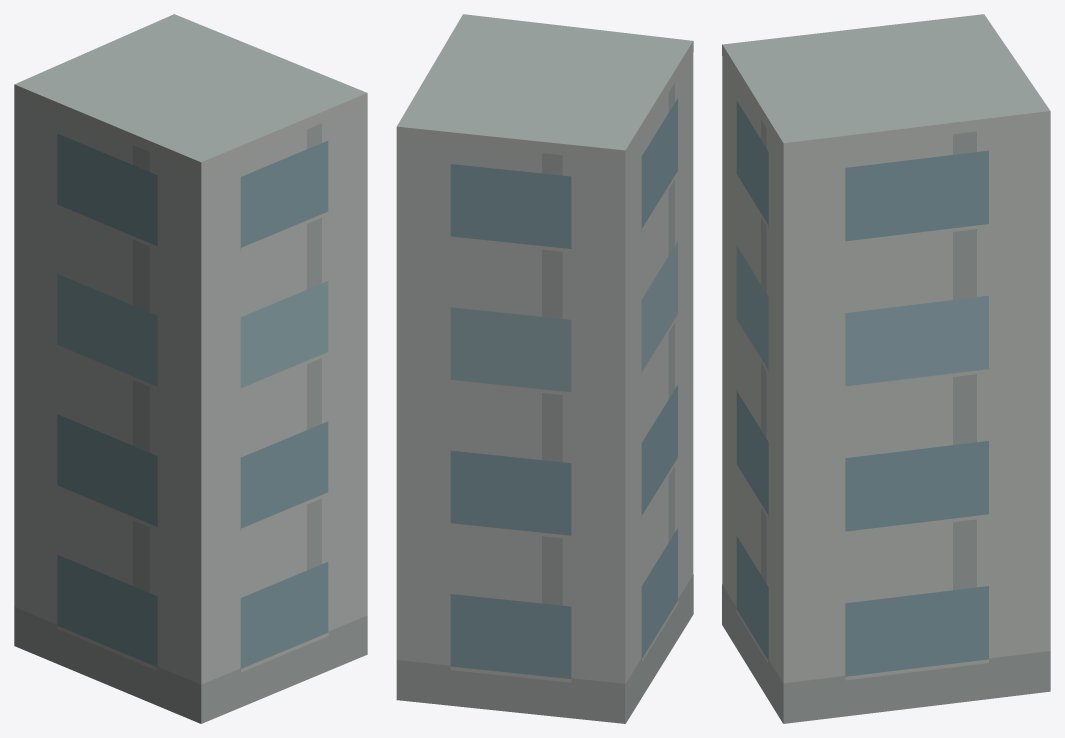
The model's file is survey-upis-32466396.glb.
The picture shows the model from 3 angles, left to right: view 1: azimuth 30°, elevation 25°; view 2: azimuth 150°, elevation 25°; view 3: azimuth 270°, elevation 25°; orthographic projection. The views are drawn at different scales.
Visible parts, largest first — view 1: survey-upis-32466396.tmp; view 2: survey-upis-32466396.tmp; view 3: survey-upis-32466396.tmp.
Part boxes in pixels (x1,y1,x2,y2): survey-upis-32466396.tmp: (14, 14, 367, 723); survey-upis-32466396.tmp: (396, 14, 693, 723); survey-upis-32466396.tmp: (722, 14, 1050, 723).
Size of the model in its own units: 5.83 by 12.2 by 6.26.
